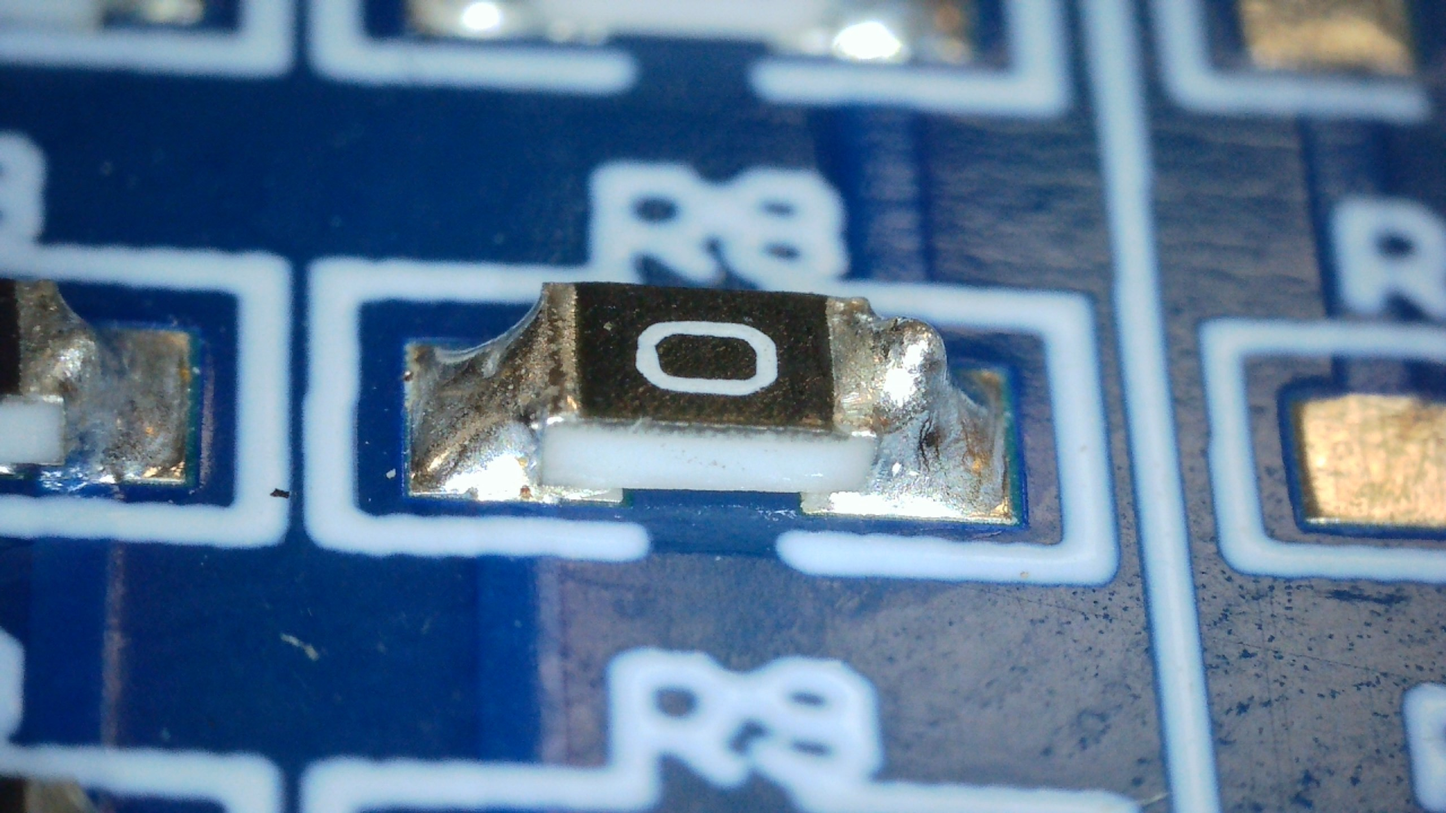NG: (828, 296, 1007, 517)
OK: (410, 283, 578, 491)
